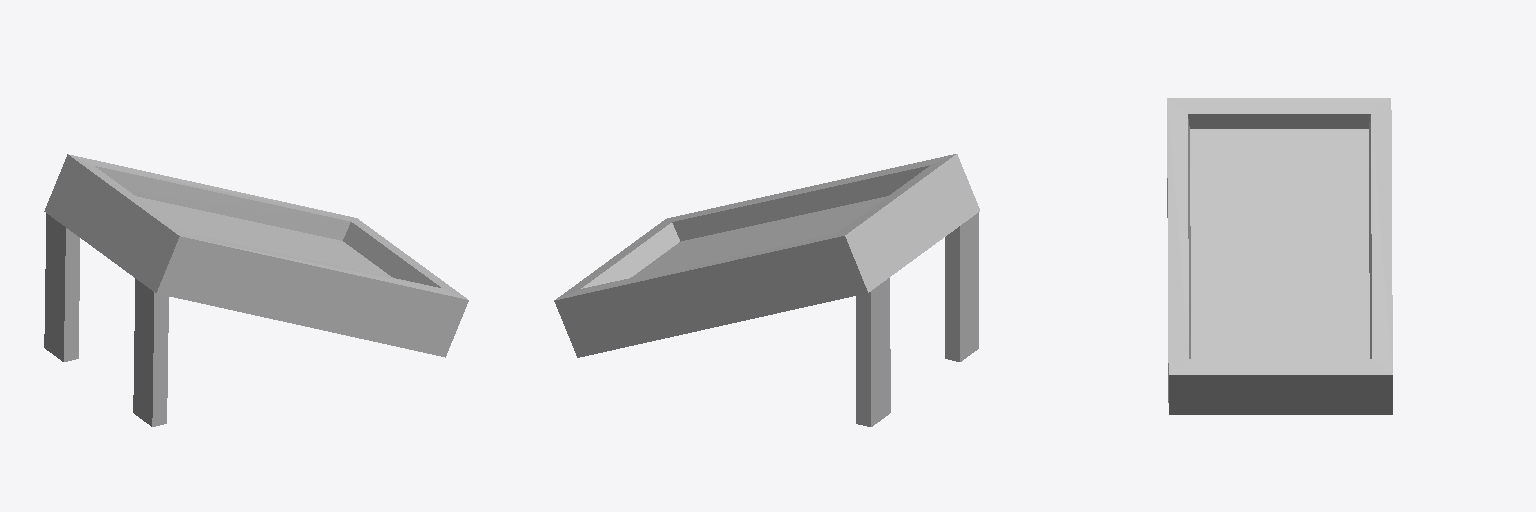
Rendered from market_tray_empty.obj.
3 renders of one model, left to right at view 1: azimuth 30°, elevation 25°; view 2: azimuth 150°, elevation 25°; view 3: azimuth 270°, elevation 25°, orthographic.
Visible parts, largest first — view 1: Market_Tray_Empty_Cube.021; view 2: Market_Tray_Empty_Cube.021; view 3: Market_Tray_Empty_Cube.021.
Part boxes in pixels (x1,y1,x2,y2): Market_Tray_Empty_Cube.021: (44,154,468,426); Market_Tray_Empty_Cube.021: (554,154,979,426); Market_Tray_Empty_Cube.021: (1167,98,1392,414).
Size of the model in its own units: 1.08 by 0.6129 by 0.6711.